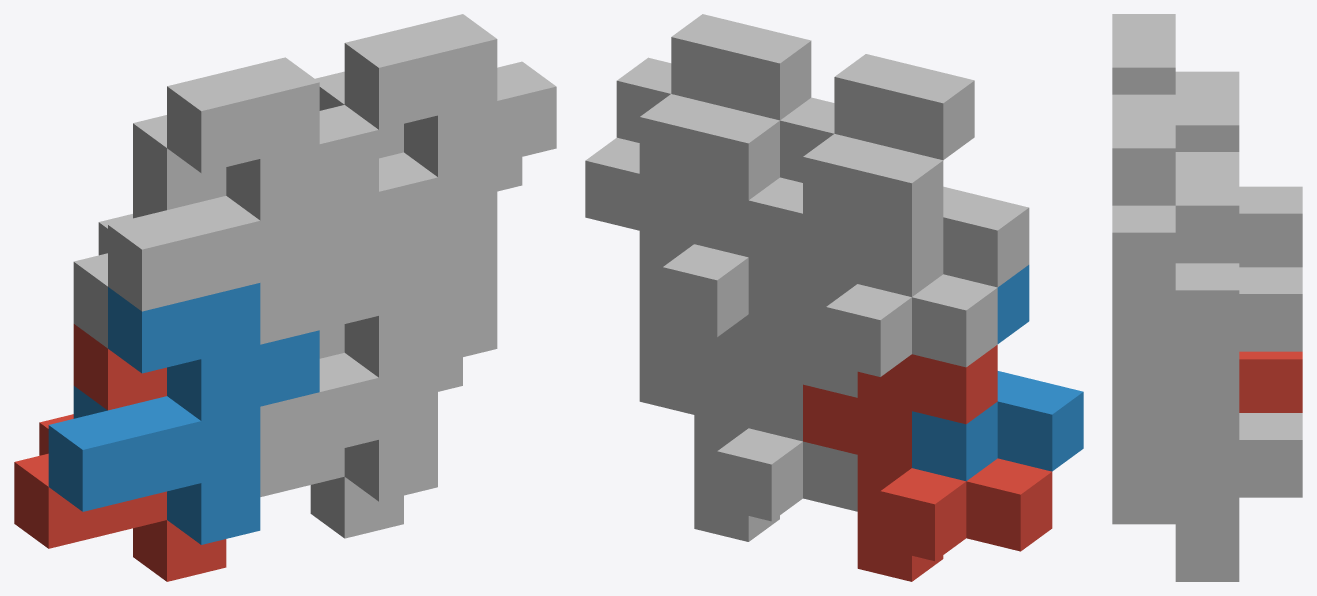
Rendered from tiling.obj.
3 views of the same model, side by side, from view 1: azimuth 30°, elevation 25°; view 2: azimuth 150°, elevation 25°; view 3: azimuth 270°, elevation 25° (orthographic). The views are drawn at different scales.
Parts seen in each view (by area): view 1: copy_1_domain_4, copy_1_domain_2, copy_1_domain_8, copy_1_domain_6, copy_1_domain_1, copy_1_domain_3, copy_1_domain_5, copy_1_domain_7; view 2: copy_1_domain_3, copy_1_domain_7, copy_1_domain_1, copy_1_domain_4, copy_1_domain_5, copy_1_domain_8, copy_1_domain_2, copy_1_domain_6; view 3: copy_1_domain_7, copy_1_domain_8, copy_1_domain_5, copy_1_domain_3, copy_1_domain_6, copy_1_domain_4, copy_1_domain_1.
Part boxes in pixels (box(x1,y1,x2,y2)): copy_1_domain_4: box(108, 57, 378, 344); copy_1_domain_2: box(48, 283, 319, 544); copy_1_domain_8: box(319, 14, 556, 301); copy_1_domain_6: box(260, 239, 497, 501); copy_1_domain_1: box(14, 324, 226, 581); copy_1_domain_3: box(73, 115, 226, 348); copy_1_domain_5: box(260, 324, 462, 538); copy_1_domain_7: box(315, 71, 522, 191); copy_1_domain_3: box(748, 134, 997, 397); copy_1_domain_7: box(585, 94, 802, 357); copy_1_domain_1: box(803, 345, 1052, 581); copy_1_domain_4: box(780, 54, 1029, 296); copy_1_domain_5: box(639, 314, 857, 541); copy_1_domain_8: box(616, 14, 811, 257); copy_1_domain_2: box(912, 265, 1083, 481); copy_1_domain_6: box(748, 371, 802, 441); copy_1_domain_7: box(1175, 152, 1302, 435); copy_1_domain_8: box(1112, 94, 1175, 378); copy_1_domain_5: box(1175, 413, 1302, 581); copy_1_domain_3: box(1175, 71, 1302, 267); copy_1_domain_6: box(1112, 378, 1175, 524); copy_1_domain_4: box(1112, 14, 1175, 94); copy_1_domain_1: box(1239, 351, 1302, 412).
Size of the model in its own units: 8 by 8 by 3.
